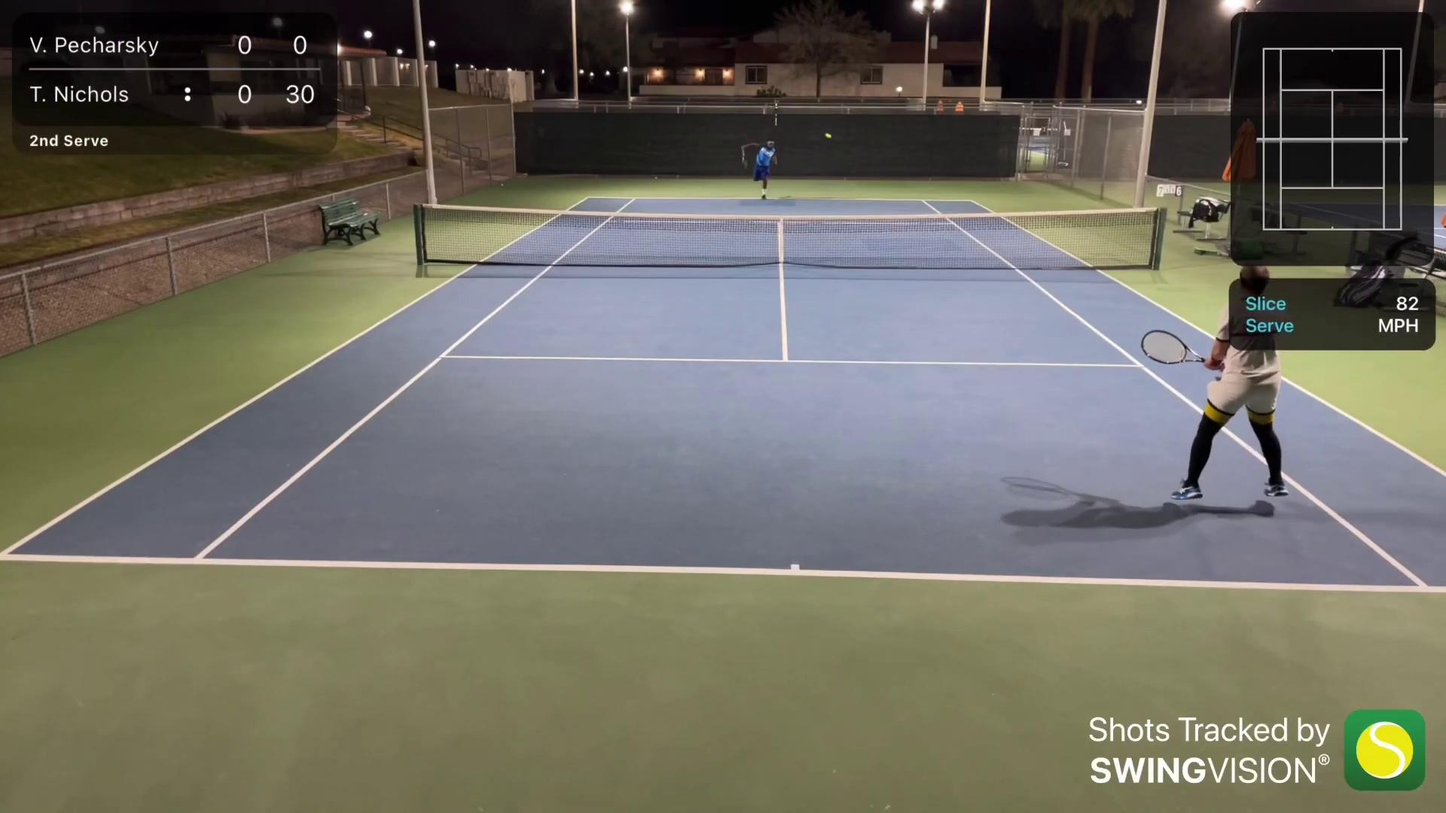ball: (826, 134, 834, 140)
